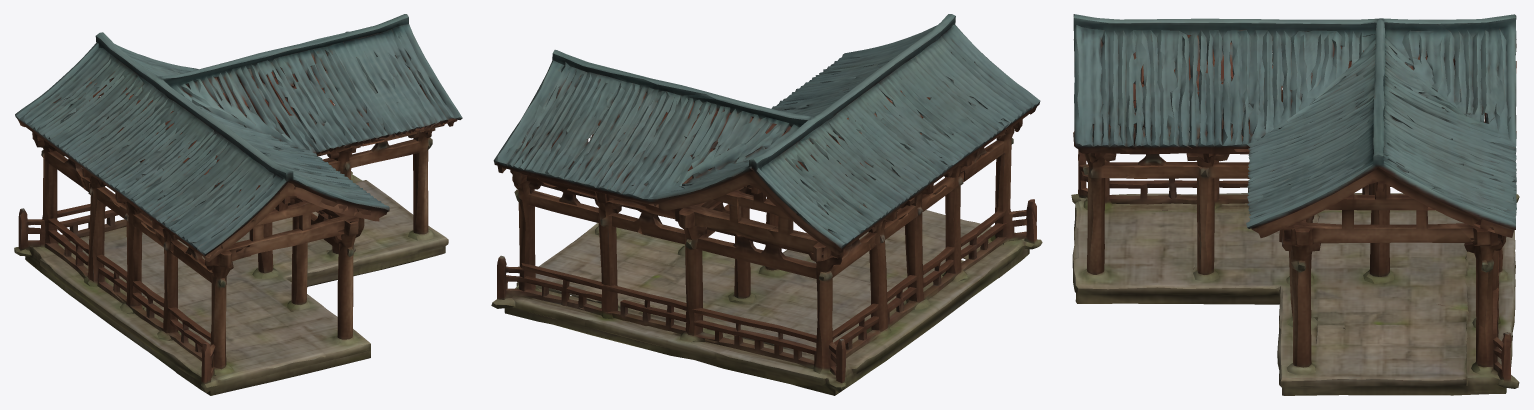
Rendered from ARCH-005.glb.
3 renders of one model, left to right at view 1: azimuth 30°, elevation 25°; view 2: azimuth 150°, elevation 25°; view 3: azimuth 270°, elevation 25°, orthographic. The views are drawn at different scales.
Visible parts, largest first — view 1: world; view 2: world; view 3: world.
Boxes of the visible parts, bbox=[...] form: world: bbox=[14, 14, 462, 395]; world: bbox=[491, 14, 1042, 395]; world: bbox=[1071, 14, 1519, 395].
Size of the model in its own units: 6 by 3.61 by 5.99.
1 material, 1 textured.
